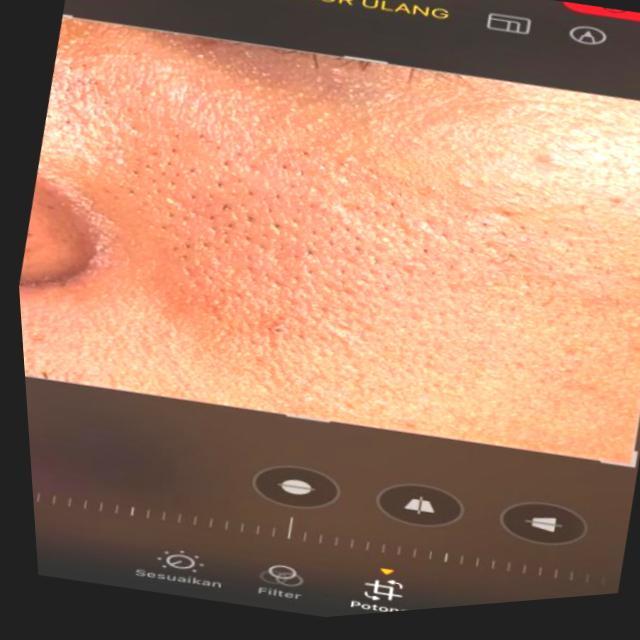blackhead: (93, 129, 501, 295)
